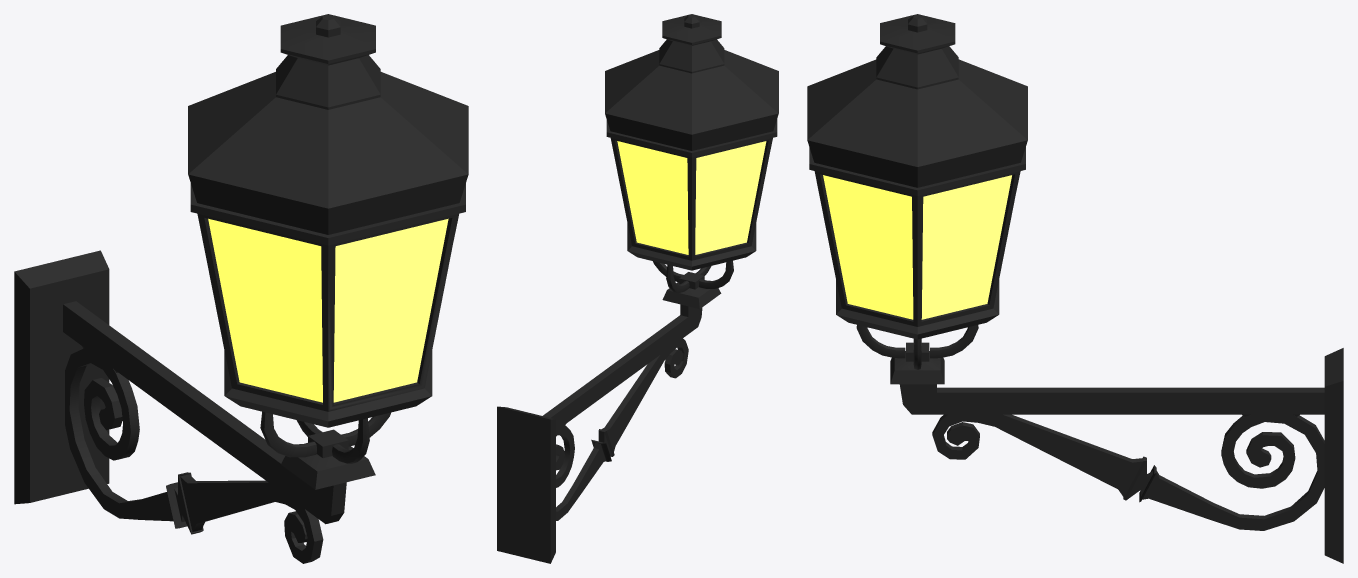
Rendered from FarolaPared2.fbx.
3 renders of one model, left to right at view 1: azimuth 30°, elevation 25°; view 2: azimuth 150°, elevation 25°; view 3: azimuth 270°, elevation 25°, orthographic. The views are drawn at different scales.
Parts seen in each view (by area): view 1: FarolaPared2; view 2: FarolaPared2; view 3: FarolaPared2.
Boxes of the visible parts, bbox=[...] form: FarolaPared2: bbox=[14, 14, 468, 563]; FarolaPared2: bbox=[497, 14, 778, 563]; FarolaPared2: bbox=[807, 14, 1343, 563].
Size of the model in its own units: 29.03 by 66.7 by 61.11.
